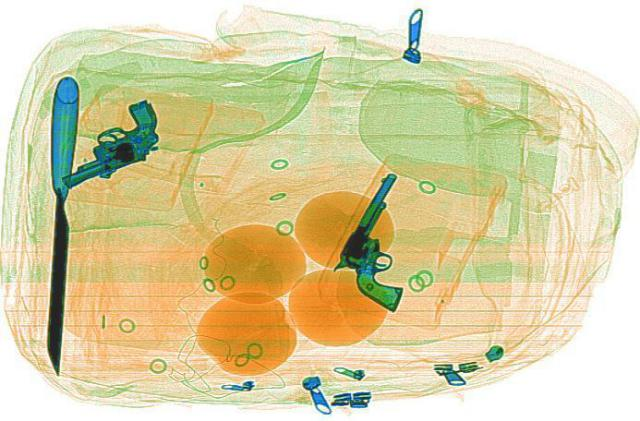Gun: (313, 170, 465, 309), (23, 97, 193, 189)
Knife: (38, 75, 78, 376)
